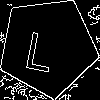L: (23, 22, 59, 73)
